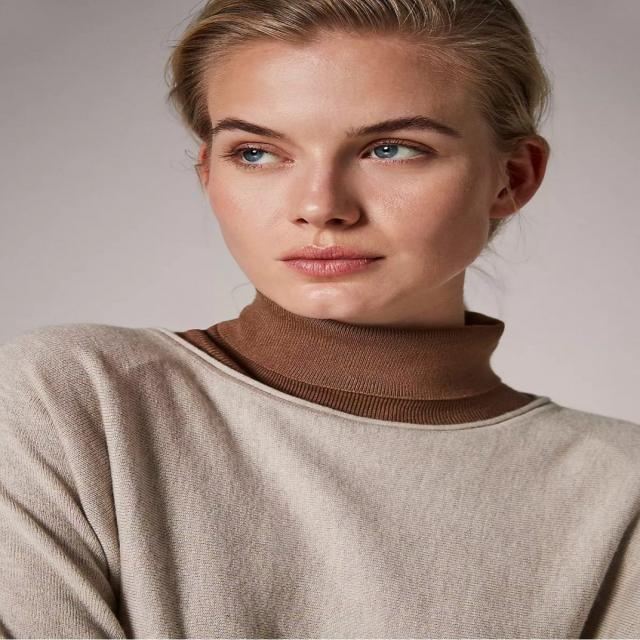earlobe: (487, 194, 513, 219)
eye: (359, 140, 434, 163), (230, 144, 292, 168)
nose: (287, 218, 354, 242)
wholeear: (488, 136, 550, 219)
